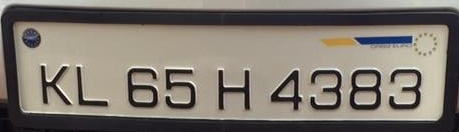character: (73, 61, 110, 107), (215, 66, 252, 111), (38, 60, 72, 108), (124, 64, 159, 109), (162, 65, 196, 110), (309, 67, 343, 112), (387, 66, 421, 111), (348, 67, 382, 111), (269, 68, 304, 110)
